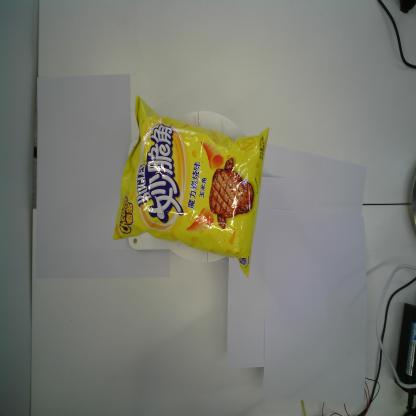Puffed Food: (111, 92, 271, 280)
